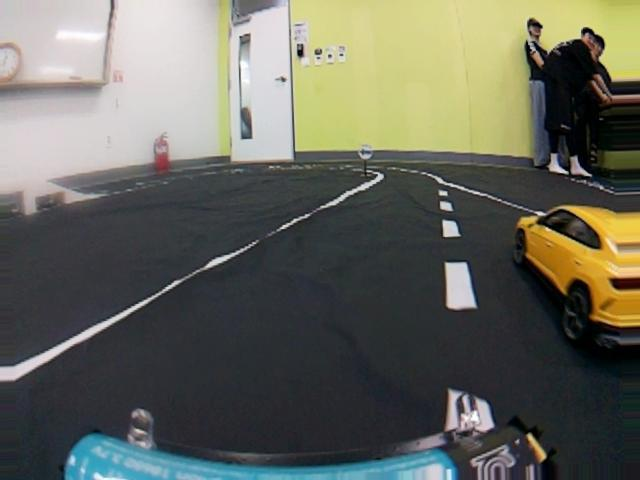car: (503, 200, 640, 348)
left: (4, 275, 640, 479)
